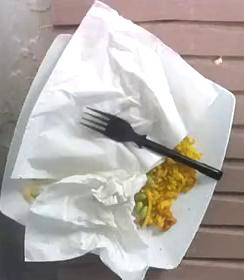rice: (133, 158, 196, 229), (174, 135, 200, 158)
